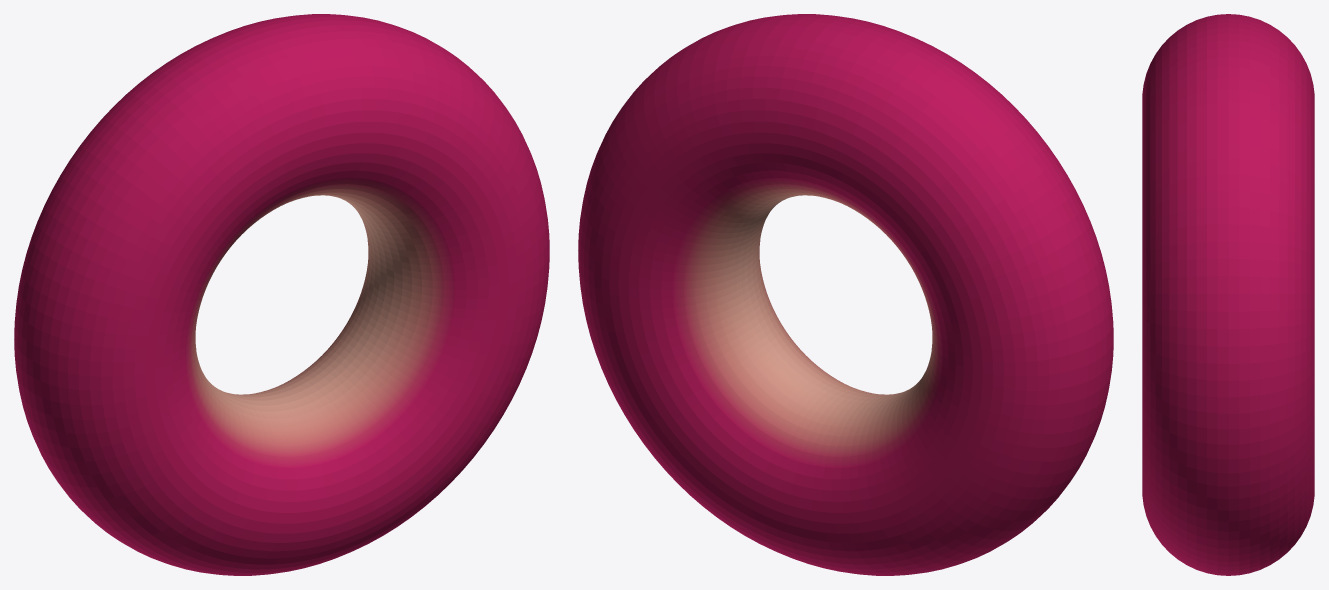
The picture shows the model from 3 angles, left to right: view 1: azimuth 30°, elevation 25°; view 2: azimuth 150°, elevation 25°; view 3: azimuth 270°, elevation 25°; orthographic projection. The views are drawn at different scales.
Visible parts, largest first — view 1: world; view 2: world; view 3: world.
Part boxes in pixels (x1,y1,x2,y2): world: [14, 14, 549, 575]; world: [578, 14, 1113, 575]; world: [1142, 14, 1314, 575].
Bounding box in the file's own units: 30.8 × 30.8 × 9.45.
